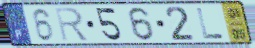2: (165, 5, 197, 42)
5: (93, 7, 123, 42)
6: (127, 6, 156, 42), (31, 7, 56, 42)
L: (194, 7, 226, 40)
R: (53, 6, 91, 43)
